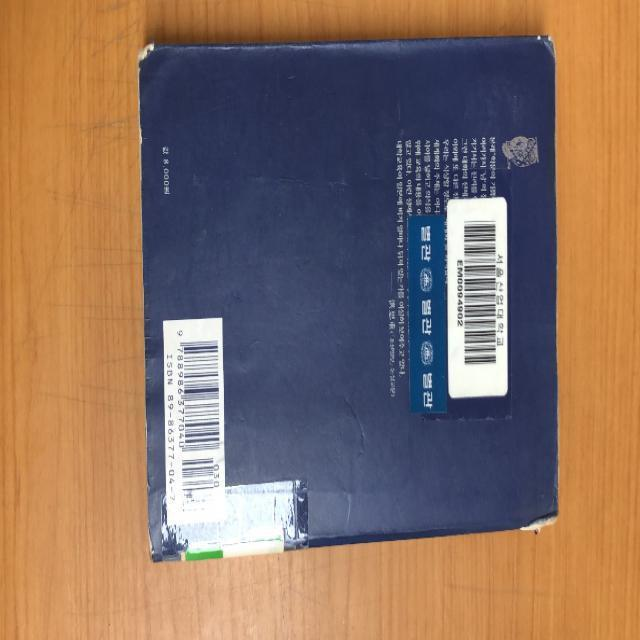Ripped: (514, 509, 560, 539), (134, 32, 162, 65)
Wornout: (553, 58, 566, 509), (143, 402, 158, 568), (133, 65, 151, 202), (534, 24, 559, 59)
